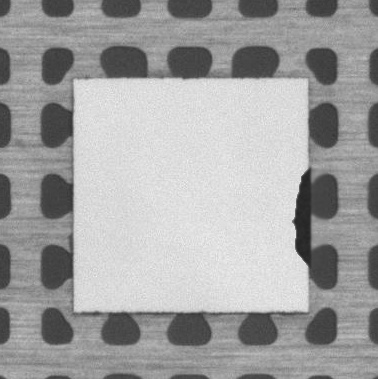DIE_BROKEN: (289, 166, 313, 265)
